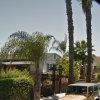Palm tree: (59, 1, 100, 73)
